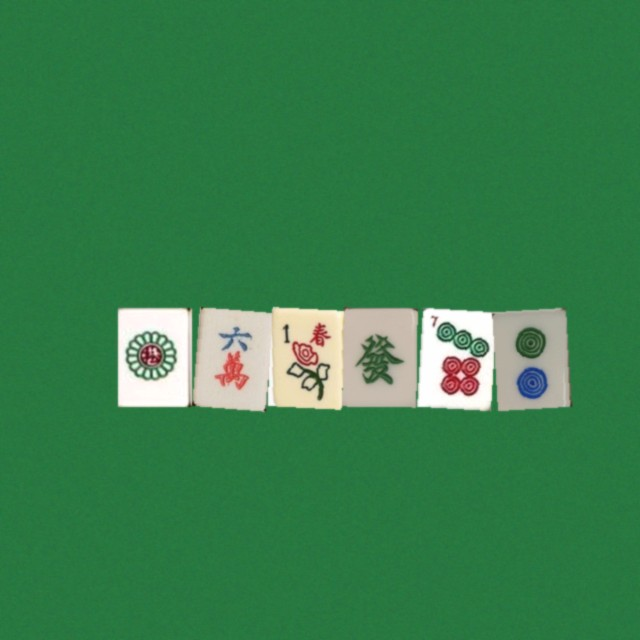tile: (117, 307, 191, 406), (192, 307, 266, 406), (267, 307, 341, 406), (342, 307, 416, 406), (417, 307, 491, 406), (492, 307, 566, 406)
